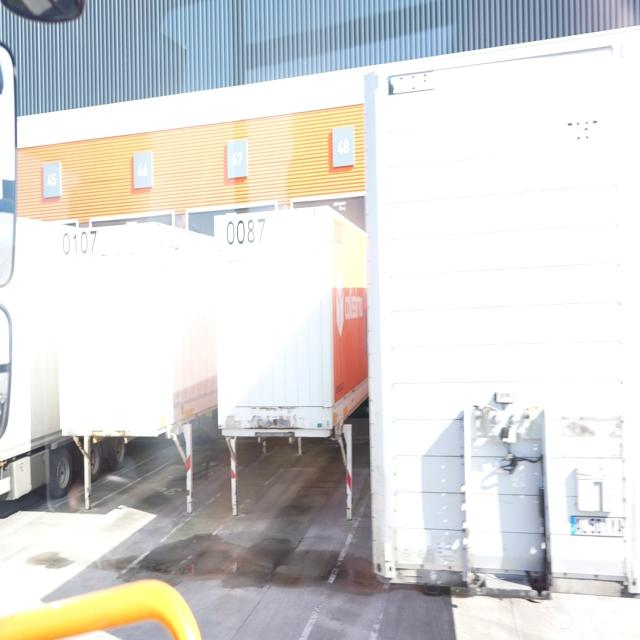Code: (220, 212, 272, 246), (58, 228, 100, 260)
